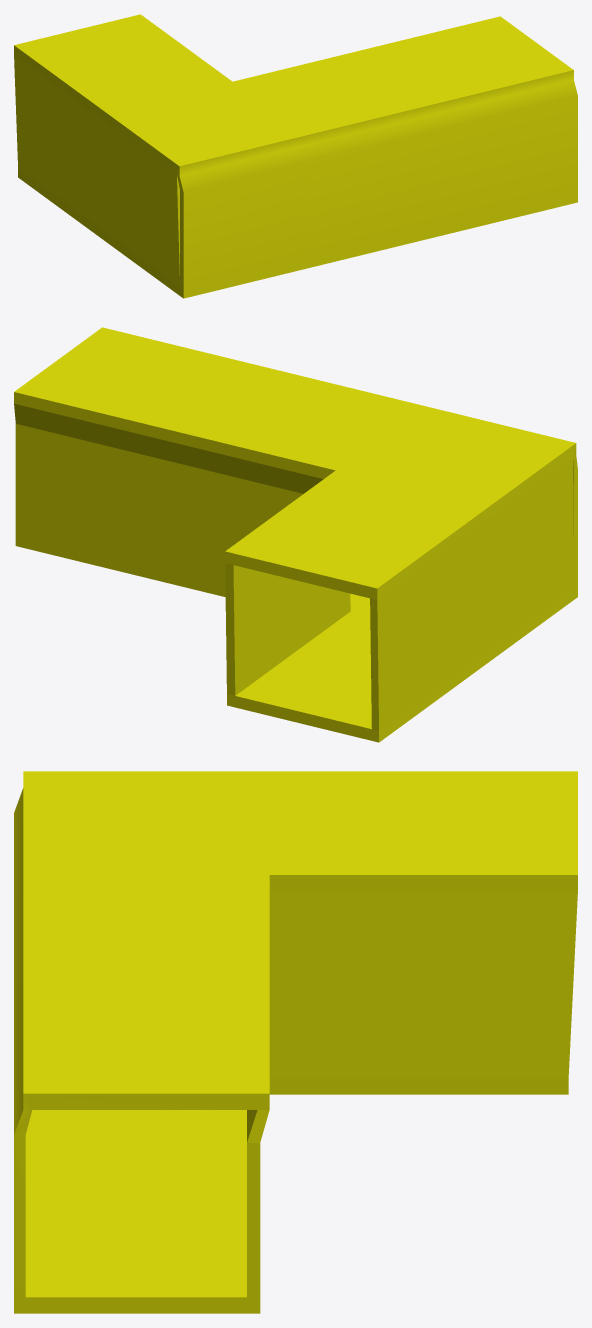
Rendered from Vent1.fbx.
3 views of the same model, one above another, from view 1: azimuth 30°, elevation 25°; view 2: azimuth 150°, elevation 25°; view 3: azimuth 270°, elevation 25° (orthographic). The views are drawn at different scales.
Parts seen in each view (by area): view 1: polySurface141; view 2: polySurface141; view 3: polySurface141.
Part boxes in pixels (x1=…): polySurface141: x1=14, y1=14, x2=577, y2=298; polySurface141: x1=14, y1=327, x2=577, y2=742; polySurface141: x1=14, y1=771, x2=577, y2=1313.
Size of the model in its own units: 340 by 107 by 250.
